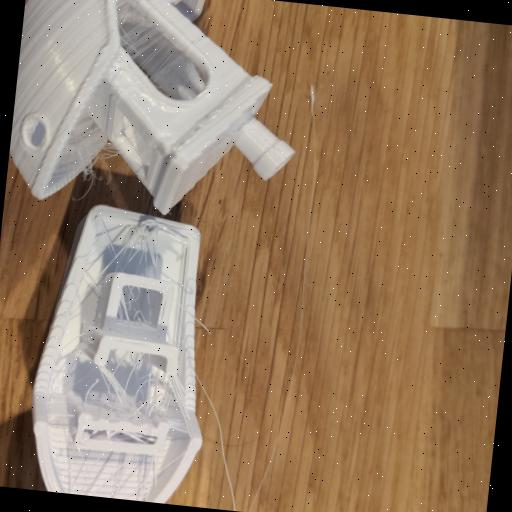stringing: (121, 10, 207, 98), (94, 340, 170, 428), (96, 217, 164, 281)
